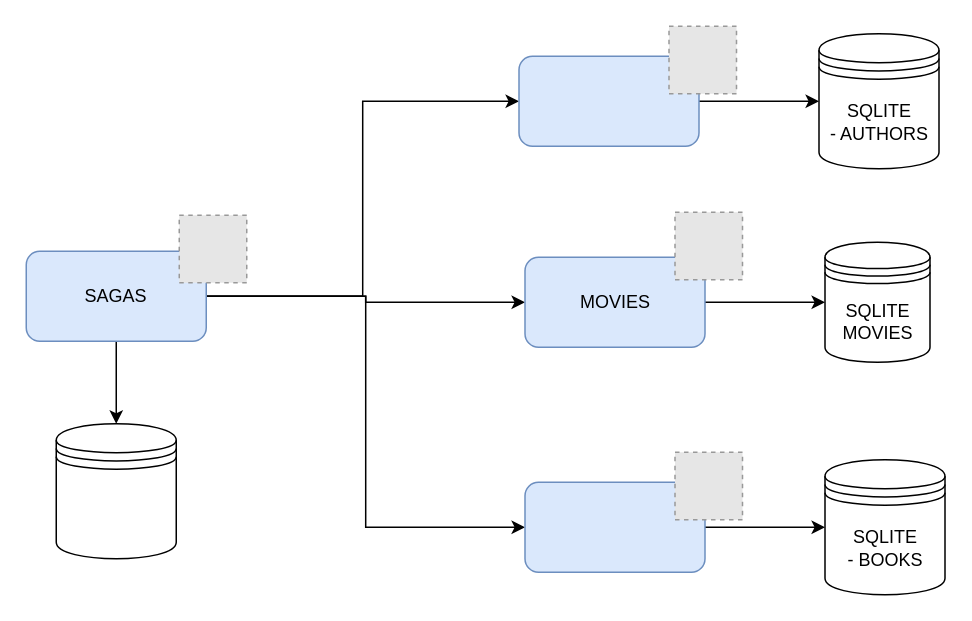
Image size: 972x621. Some labels were removed from this diagram. Grey dashed boxes stand in for pictures. The shapes that lost their labels are listed below. From the top down, each one's centre as x and y in pixels, then its label:
At point 608,100: "AUTHORS".
At point 115,490: "SQLITE - SAGAS".
At point 614,526: "BOOKS".
